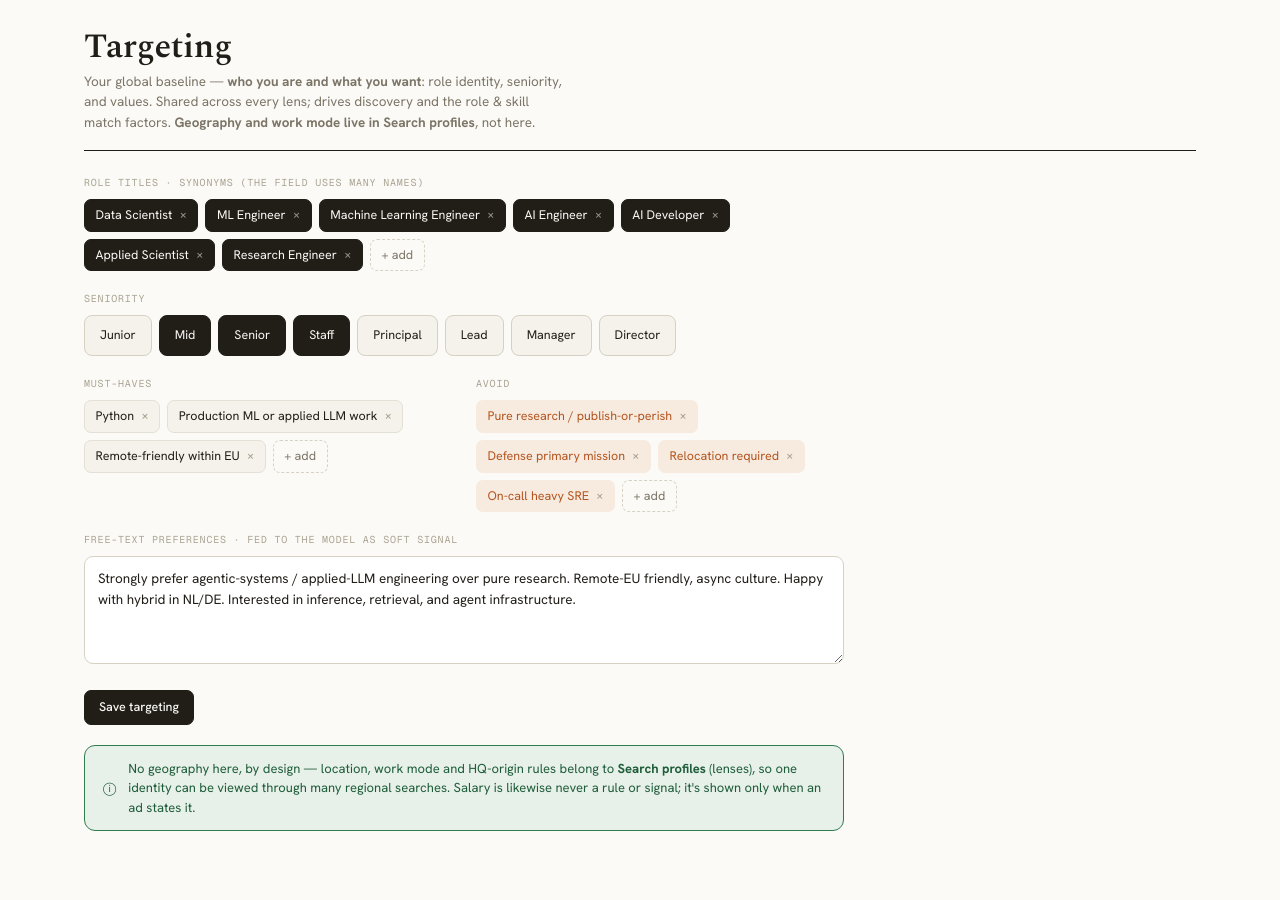
Test case: TargetingView › gates Save on dirty state and toggles seniority
Expected: the button "Save targeting" is disabled, [84,690,194,725]
Click the button "Principal" at (398, 336), box [357,315,438,356]
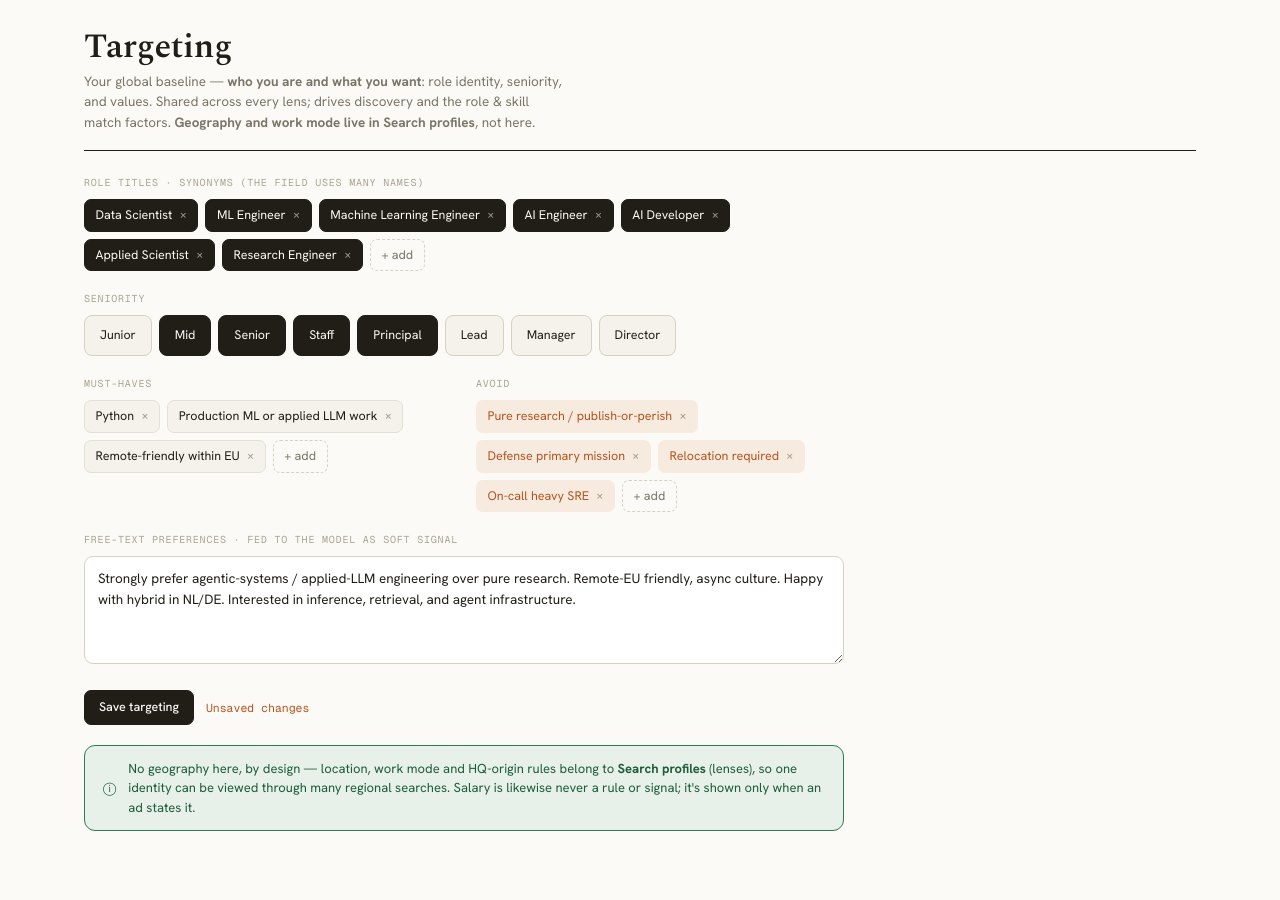
Expected: the button "Save targeting" is enabled, [84,690,194,725]
Now the text "Unsaved changes" is shown, box [206,699,309,716]
